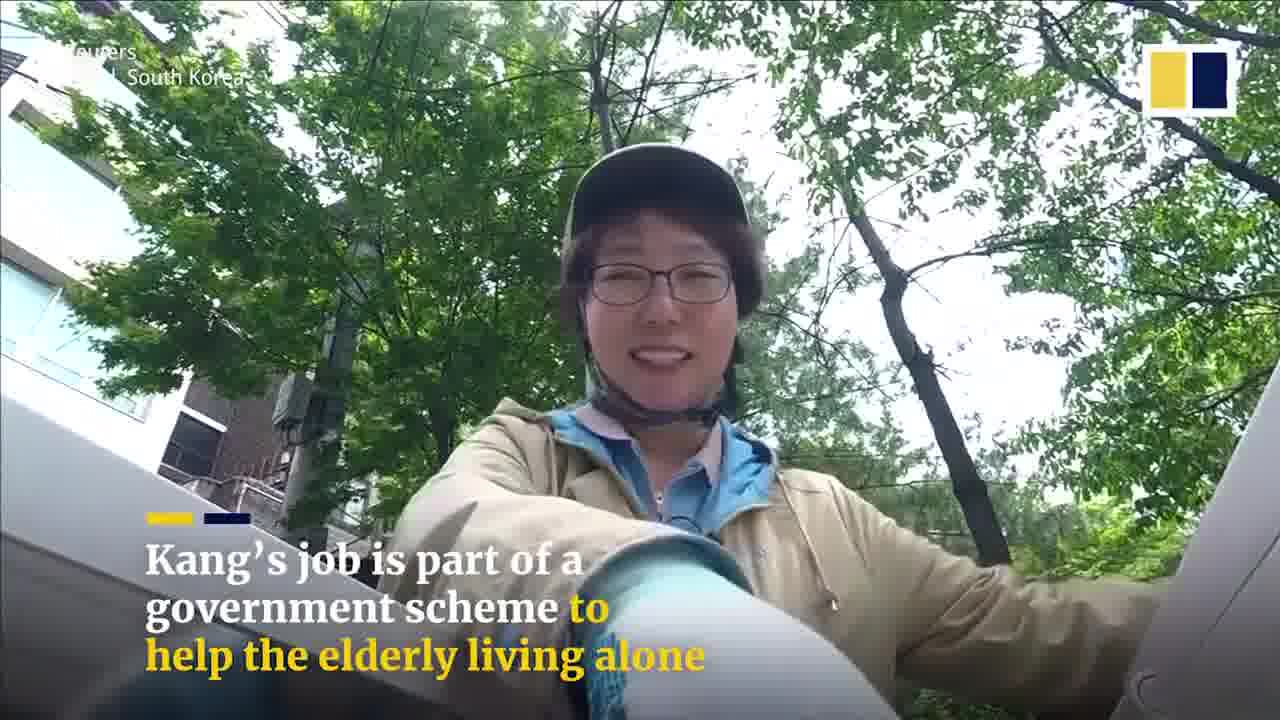Yakurut: (364, 139, 1200, 720)
